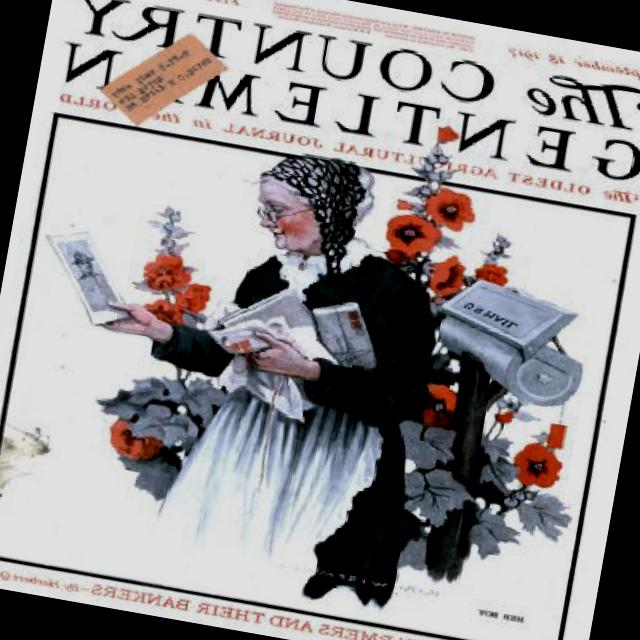Person: (114, 128, 475, 570)
